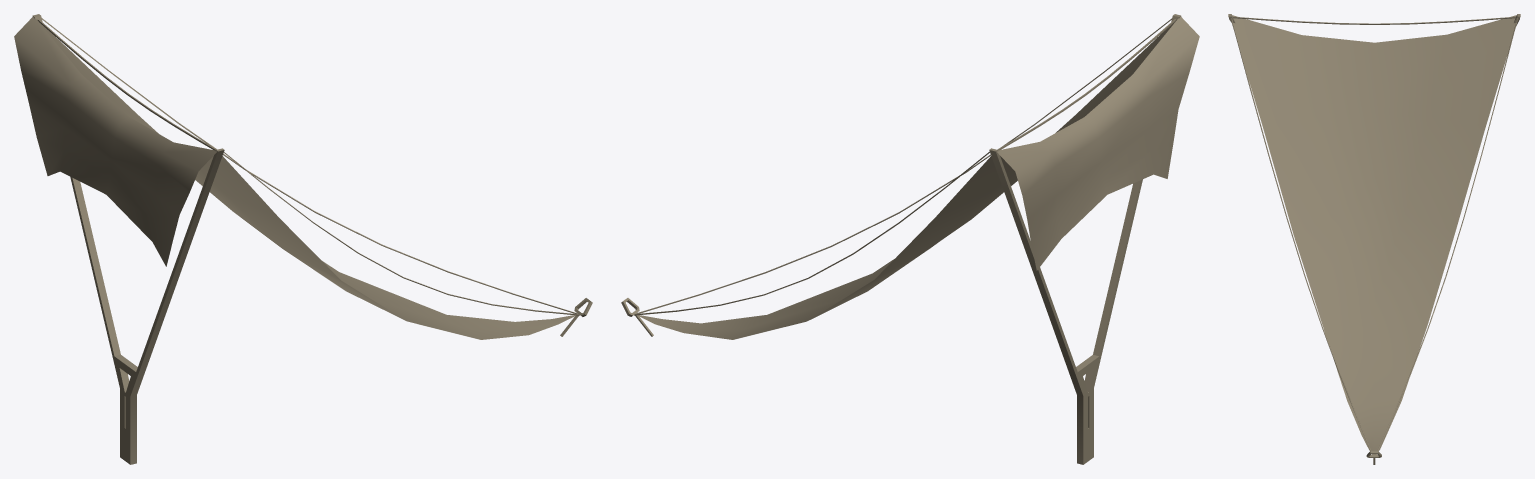
Rendered from savHubTent5.fbx.
The picture shows the model from 3 angles, left to right: view 1: azimuth 30°, elevation 25°; view 2: azimuth 150°, elevation 25°; view 3: azimuth 270°, elevation 25°; orthographic projection. The views are drawn at different scales.
Parts seen in each view (by area): view 1: savHubTent5_LOD0; view 2: savHubTent5_LOD0; view 3: savHubTent5_LOD0.
Part boxes in pixels (x1=…): savHubTent5_LOD0: x1=14, y1=14, x2=592, y2=464; savHubTent5_LOD0: x1=621, y1=14, x2=1199, y2=464; savHubTent5_LOD0: x1=1228, y1=14, x2=1520, y2=464.
Size of what is drawn, in the model's own units: 753 by 562 by 501.
